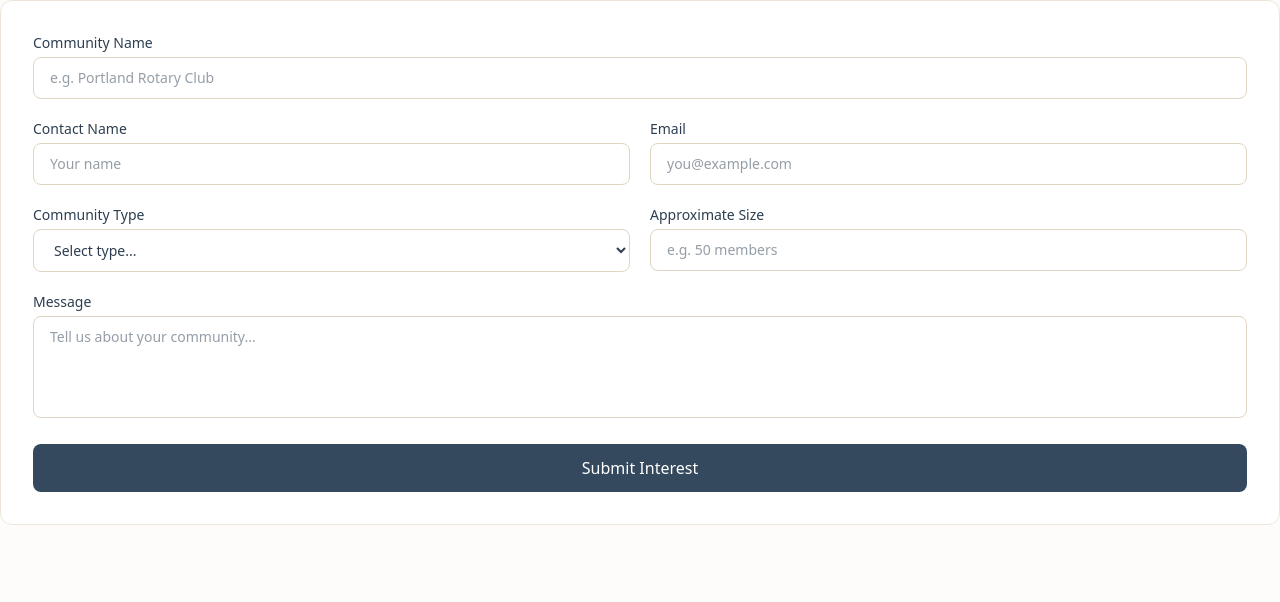
PartnershipInterestForm › shows validation errors for empty required fields
Click the button "Submit Interest": click(640, 468) [33,444,1247,492]
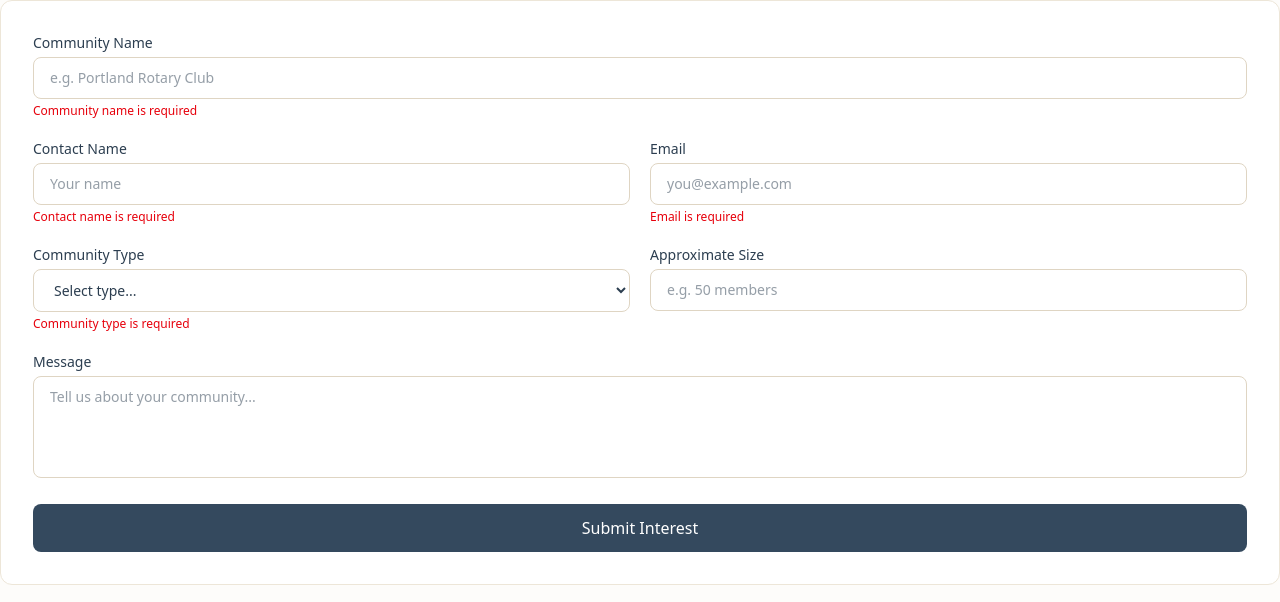
Now the text "Community name is required" is shown, box [33,102,197,119]
Now the text "Contact name is required" is shown, box [33,208,175,225]
Now the text "Email is required" is shown, box [650,208,744,225]
